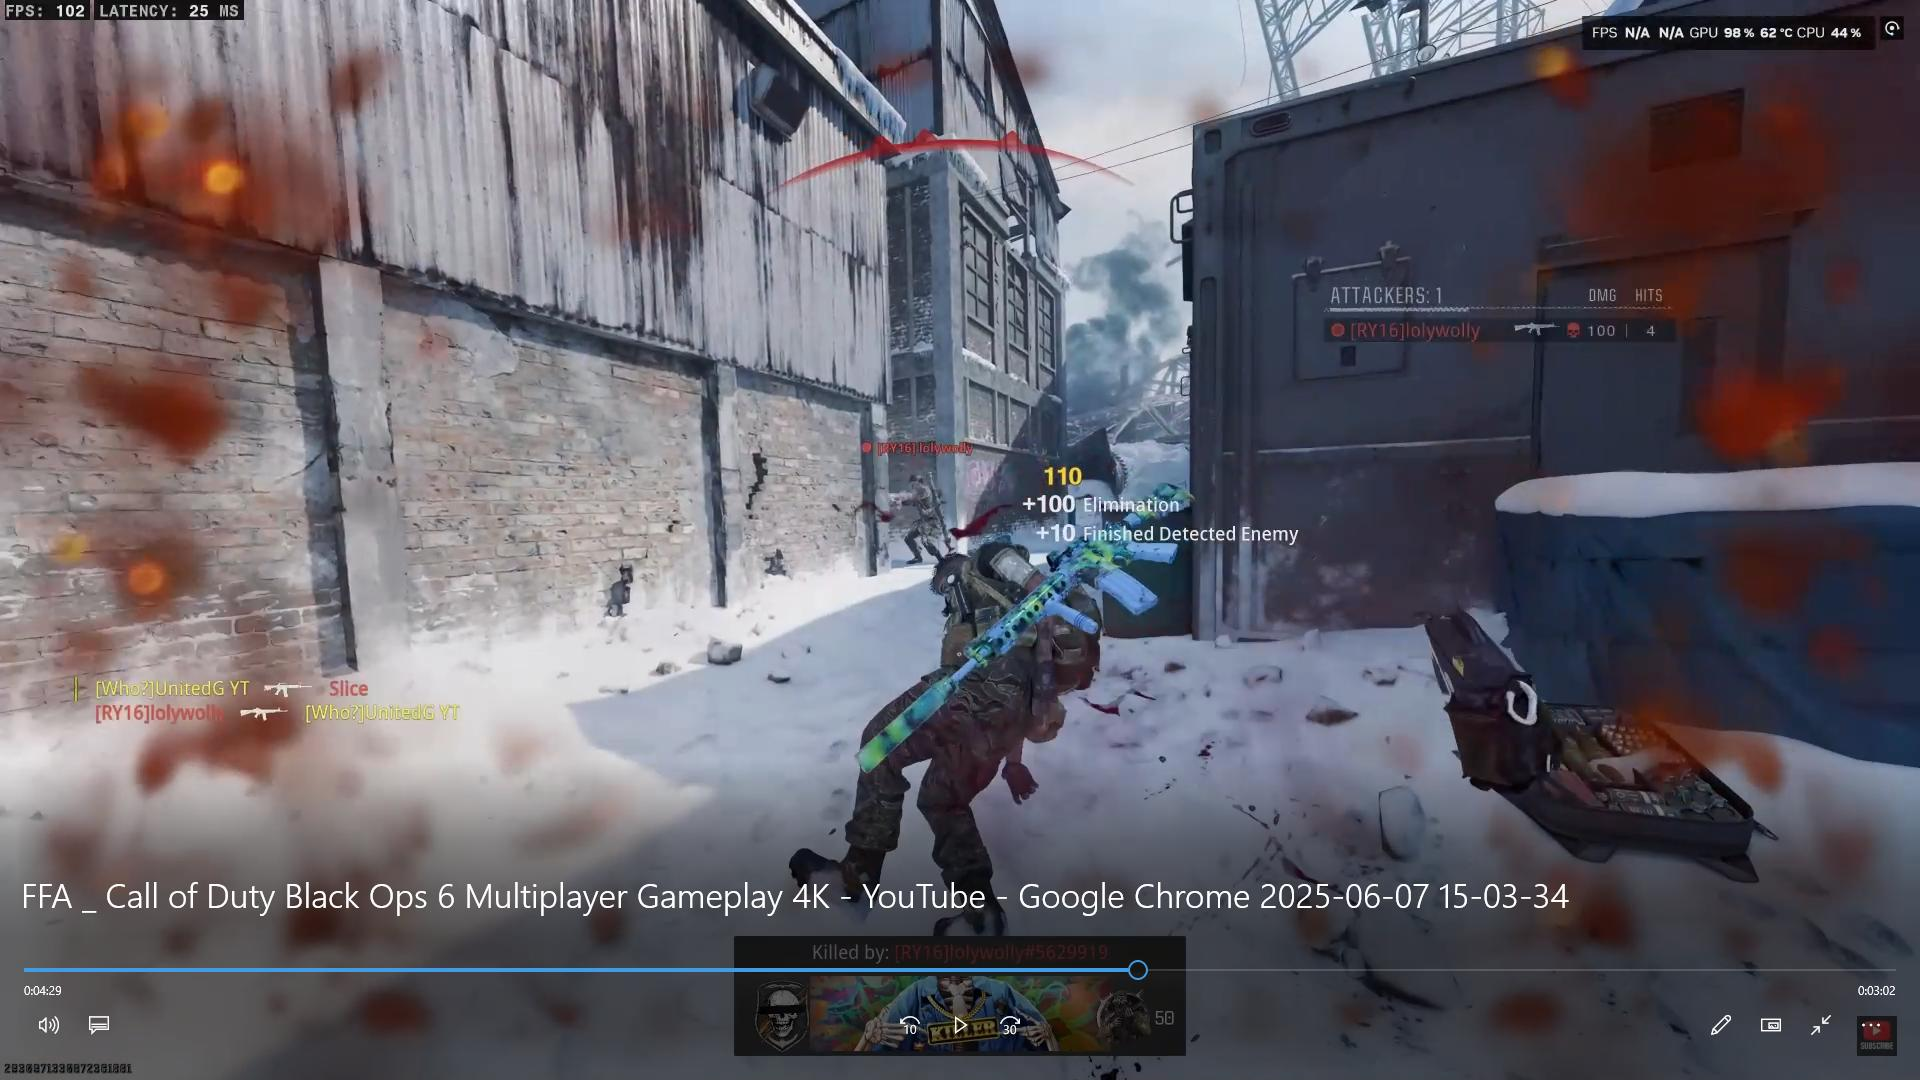Enemy: (885, 463, 953, 568)
